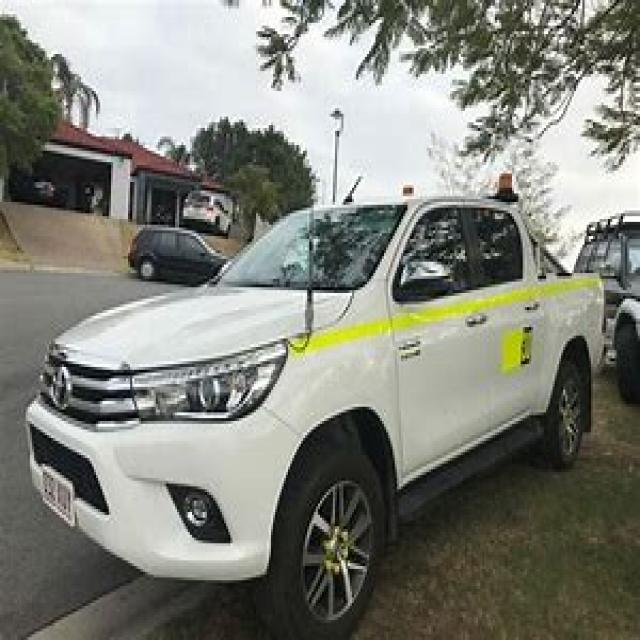light_vehicle: (17, 182, 610, 623)
